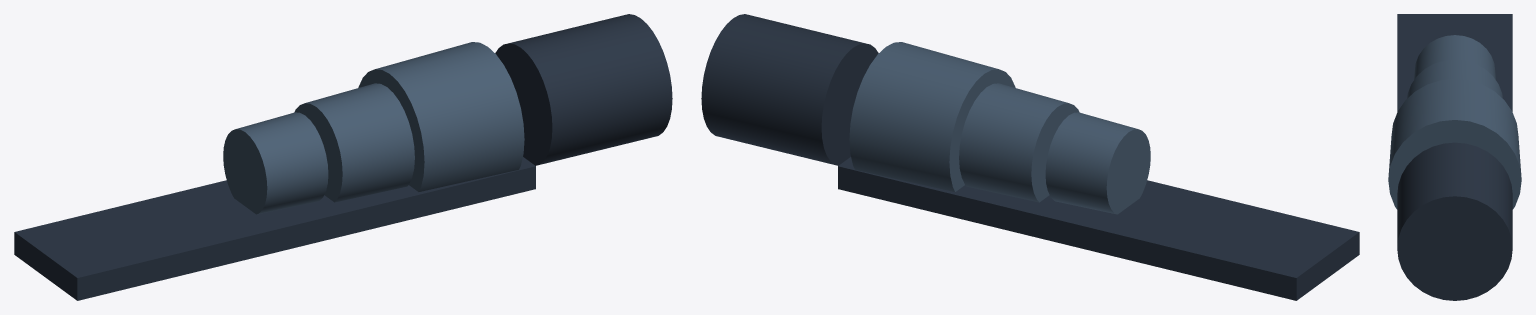
Rendered from turbine_hall.glb.
3 renders of one model, left to right at view 1: azimuth 30°, elevation 25°; view 2: azimuth 150°, elevation 25°; view 3: azimuth 270°, elevation 25°, orthographic. The views are drawn at different scales.
Visible parts, largest first — view 1: spinner (×3), object 6, object 4; view 2: spinner (×3), object 6, object 4; view 3: object 4, spinner (×3), object 6.
Part boxes in pixels (bbox=[...]): spinner (×3): bbox=[223, 42, 524, 214]; object 6: bbox=[14, 157, 535, 300]; object 4: bbox=[495, 14, 672, 165]; spinner (×3): bbox=[849, 42, 1150, 214]; object 6: bbox=[838, 157, 1359, 300]; object 4: bbox=[701, 14, 878, 165]; object 4: bbox=[1397, 142, 1512, 300]; spinner (×3): bbox=[1388, 35, 1521, 209]; object 6: bbox=[1397, 14, 1512, 111].
Bounding box in the file's own units: 54.5 × 11.55 × 11.55.
